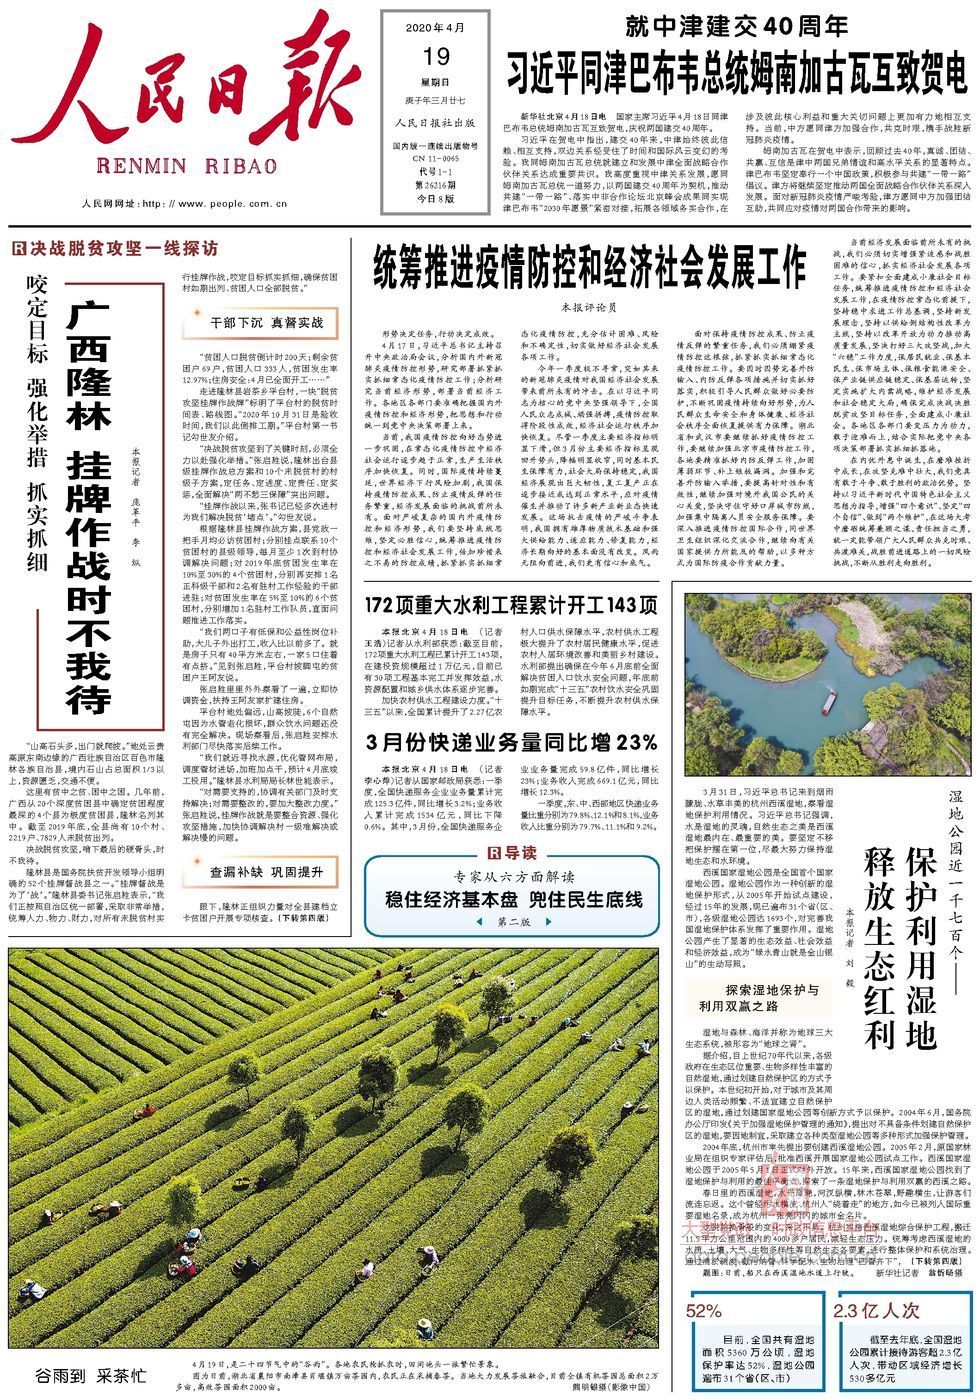pic: (5, 941, 662, 1353), (681, 589, 977, 781)
